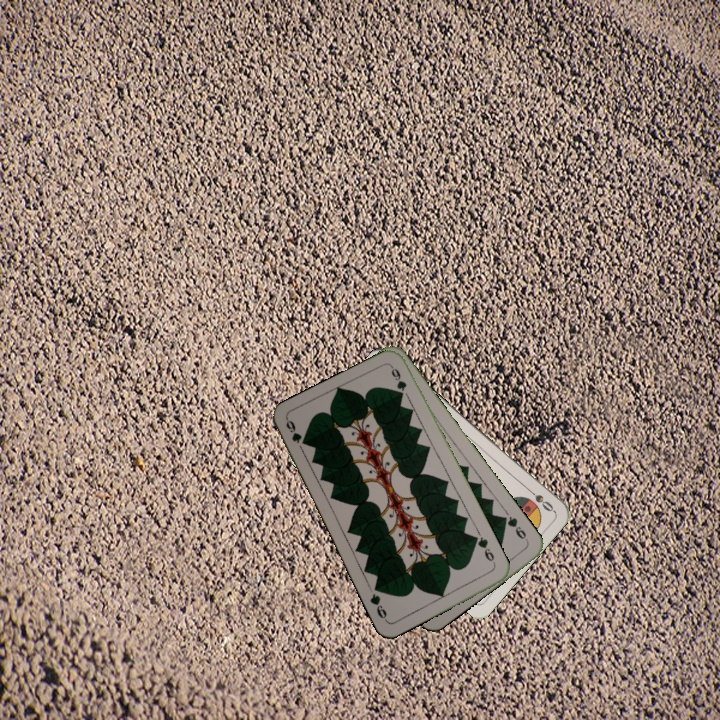G9: (499, 512, 531, 545), (471, 532, 497, 564), (282, 416, 304, 446)
SO: (522, 484, 556, 514)
